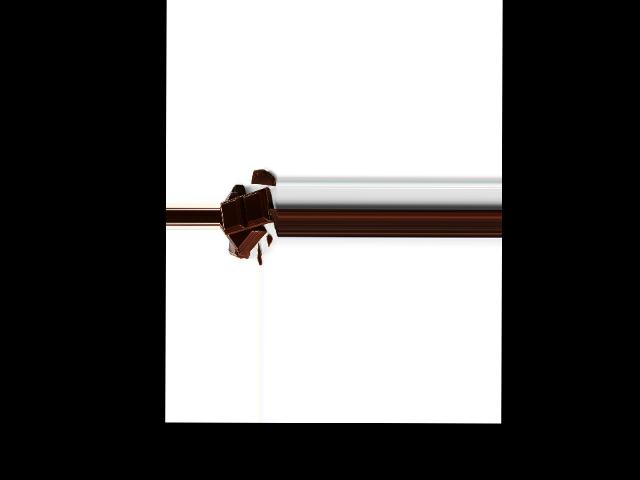chocolate: (222, 189, 272, 235)
